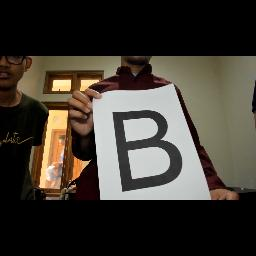b: (108, 105, 188, 195)
